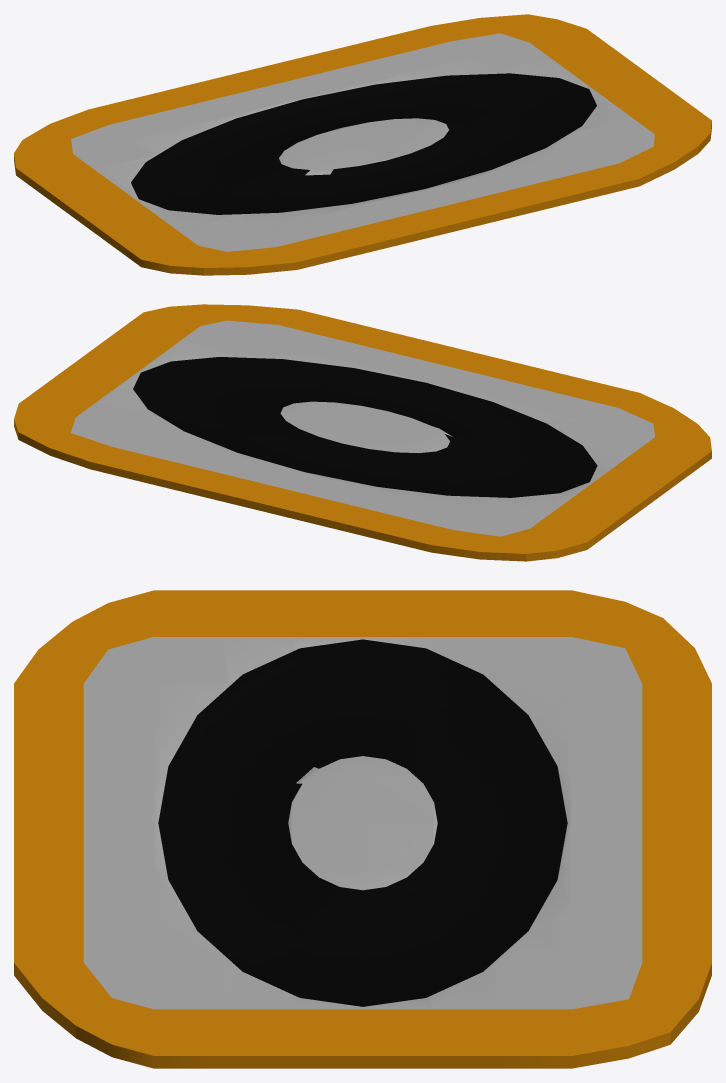
File: CodeCard0.fbx
The picture shows the model from 3 angles, top to bottom: view 1: azimuth 30°, elevation 25°; view 2: azimuth 150°, elevation 25°; view 3: azimuth 270°, elevation 25°; orthographic projection. The views are drawn at different scales.
Visible parts, largest first — view 1: pPlane2; view 2: pPlane2; view 3: pPlane2.
Part boxes in pixels (x1=…): pPlane2: x1=14, y1=14, x2=711, y2=275; pPlane2: x1=14, y1=304, x2=711, y2=561; pPlane2: x1=14, y1=590, x2=711, y2=1068.
Bounding box in the file's own units: 7.96 × 0.1011 × 5.04.
